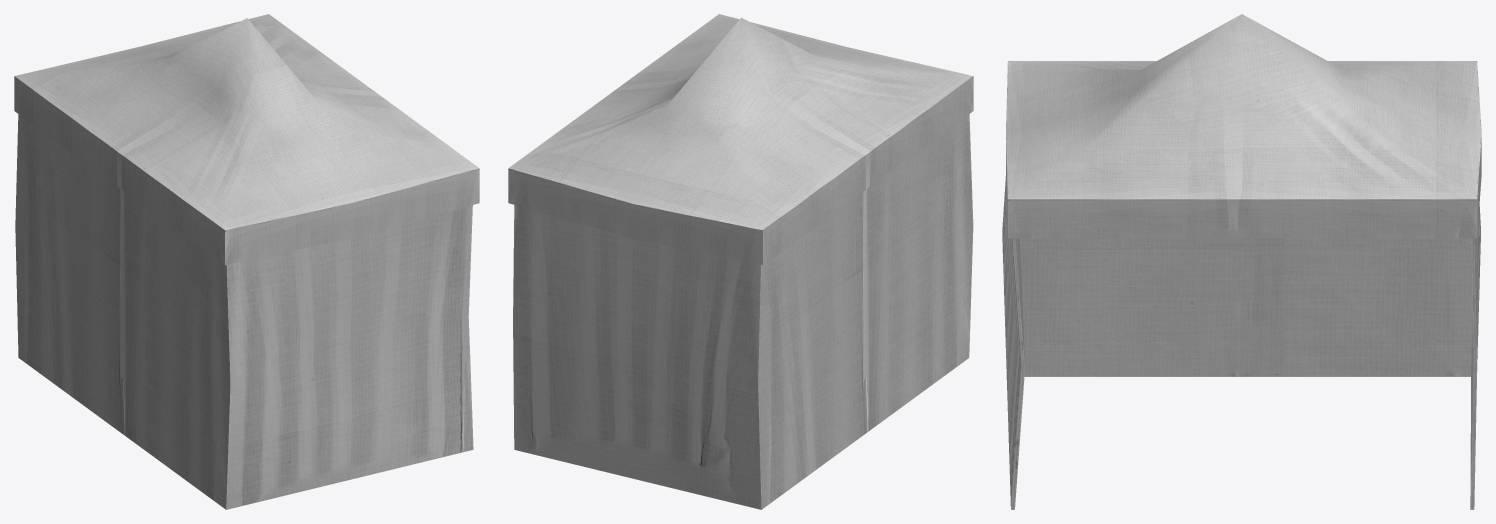
File: Stand_MESH.FBX
The picture shows the model from 3 angles, left to right: view 1: azimuth 30°, elevation 25°; view 2: azimuth 150°, elevation 25°; view 3: azimuth 270°, elevation 25°; orthographic projection. The views are drawn at different scales.
Visible parts, largest first — view 1: Stand_Low; view 2: Stand_Low; view 3: Stand_Low.
Part boxes in pixels (x1,y1,x2,y2): Stand_Low: (14,14,479,509); Stand_Low: (508,14,973,509); Stand_Low: (1002,14,1481,509).
Size of the model in its own units: 207 by 303 by 299.
